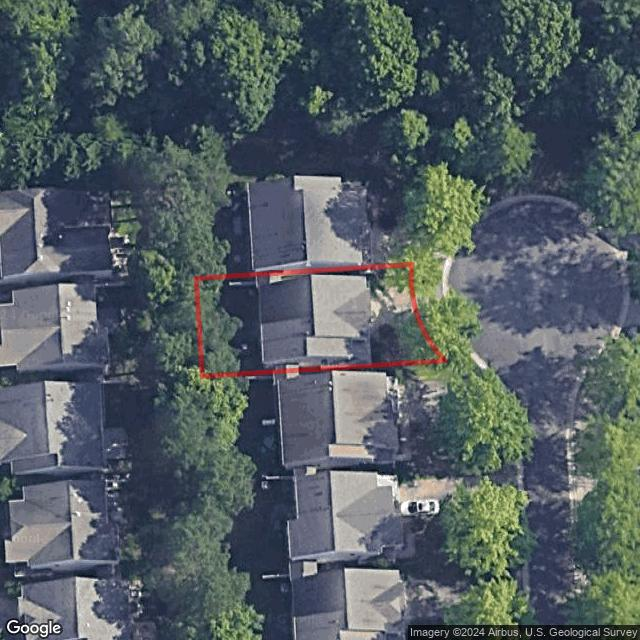Driveway: (369, 285, 416, 315)
Extra-Driveway: (413, 281, 442, 309)
Extra-Lawn: (416, 305, 466, 361), (411, 260, 443, 286)
House: (260, 275, 370, 362)
Lawn: (197, 263, 444, 378)
Other: (256, 274, 282, 285), (228, 277, 258, 286), (241, 344, 249, 352)
Sidewalk: (354, 314, 384, 355)
